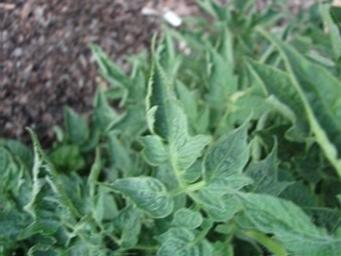Tomato leaf mosaic virus: (139, 47, 205, 178), (232, 193, 334, 254), (193, 113, 260, 199), (94, 174, 174, 223), (169, 212, 203, 231)
